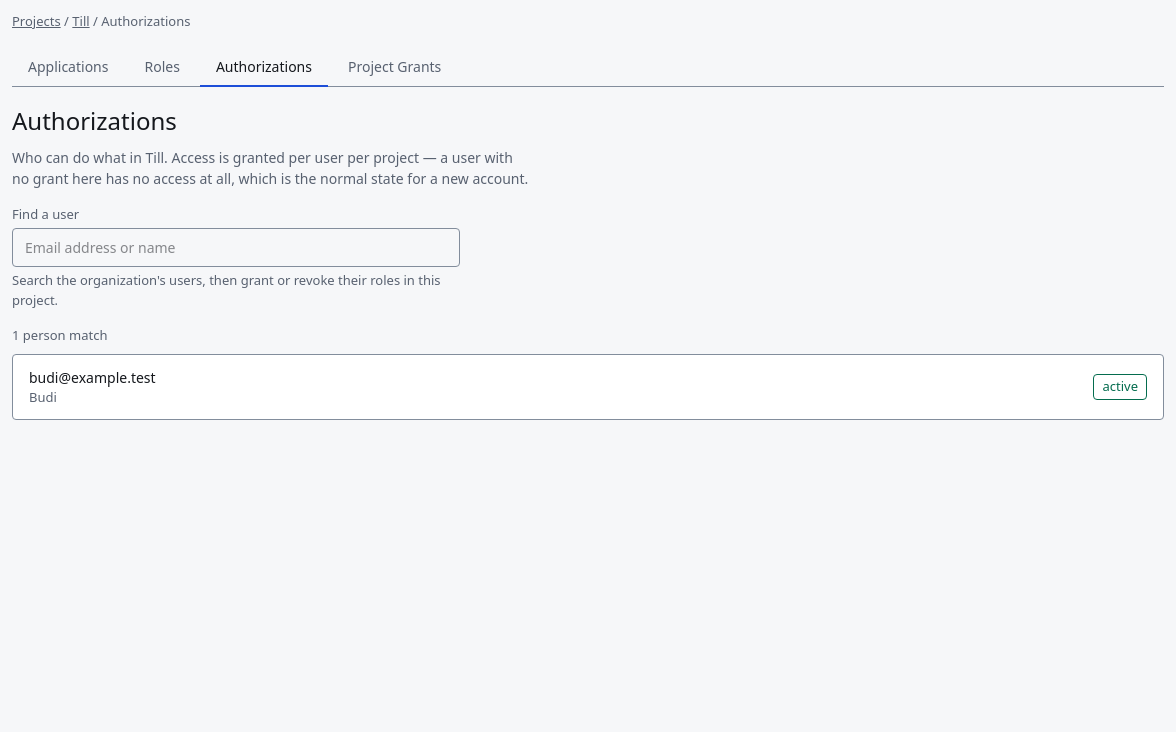
Test case: a user's access to the project › shows only this project's grant, not every project's
Type "budi" into the search field labelled "Find a user".
click(236, 248); type("budi")  # box [12,228,460,267]
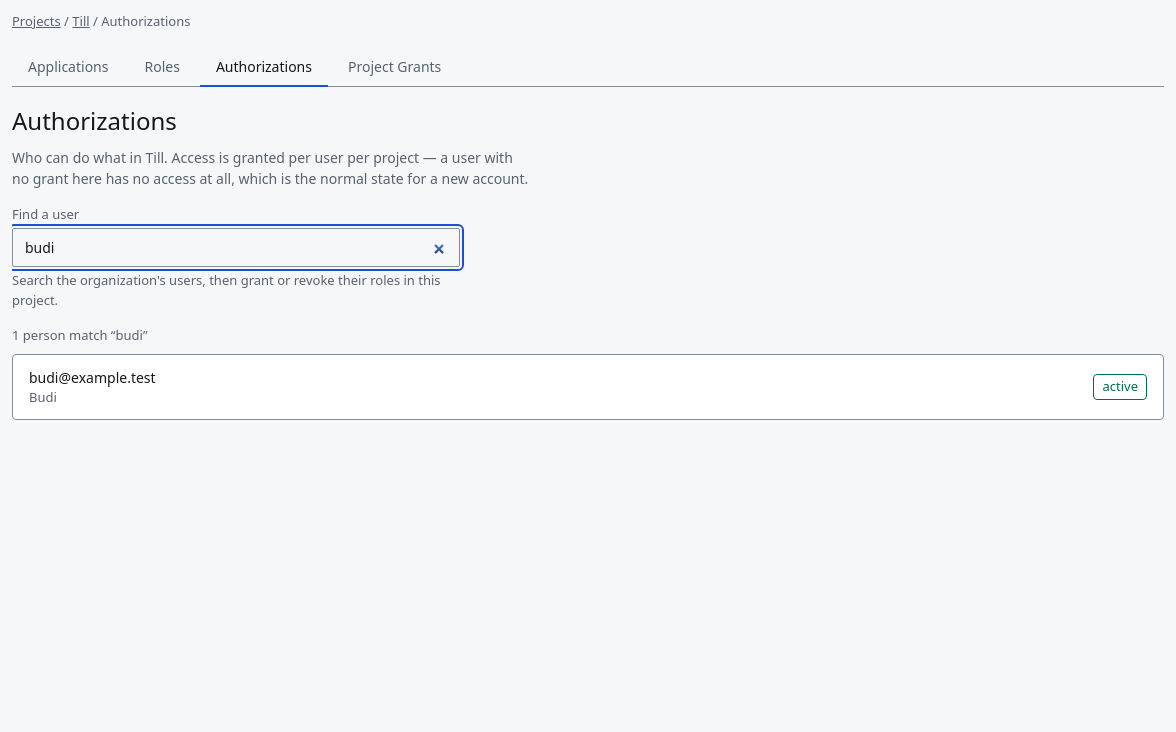
Click the button "budi@example.test Budi active".
click(92, 377)  # box [13,354,1163,419]
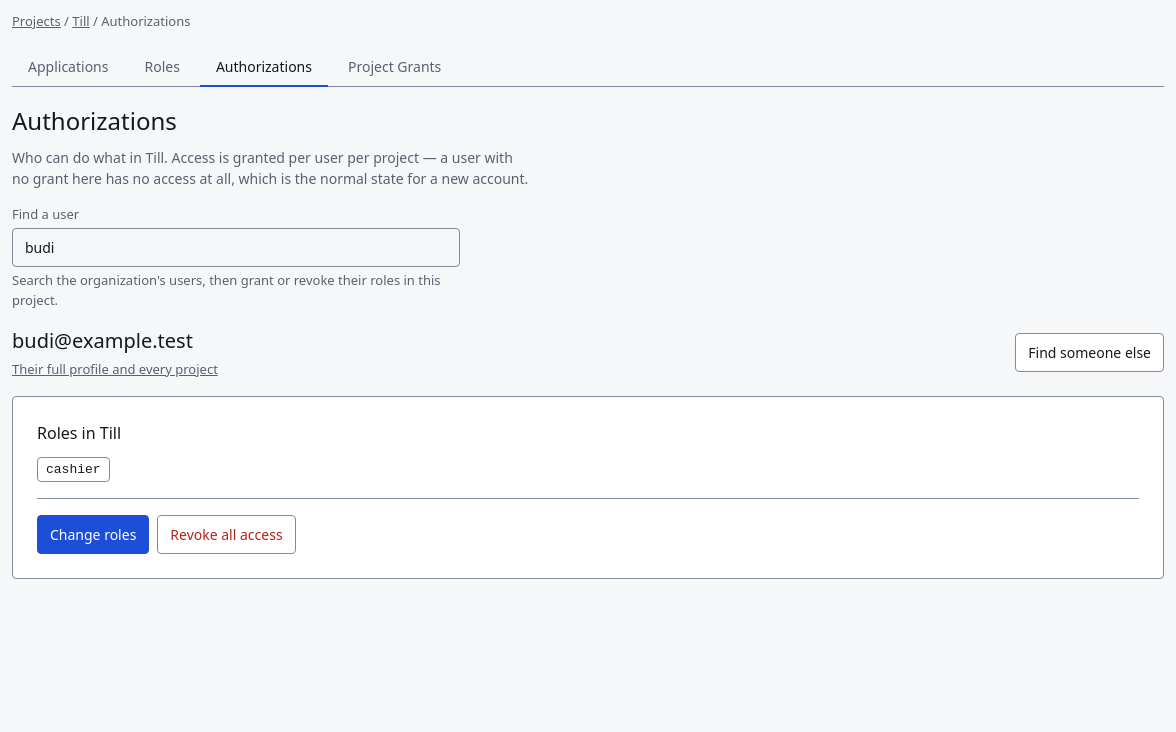
Expected: the text "cashier" is shown, [37,456,110,482]
